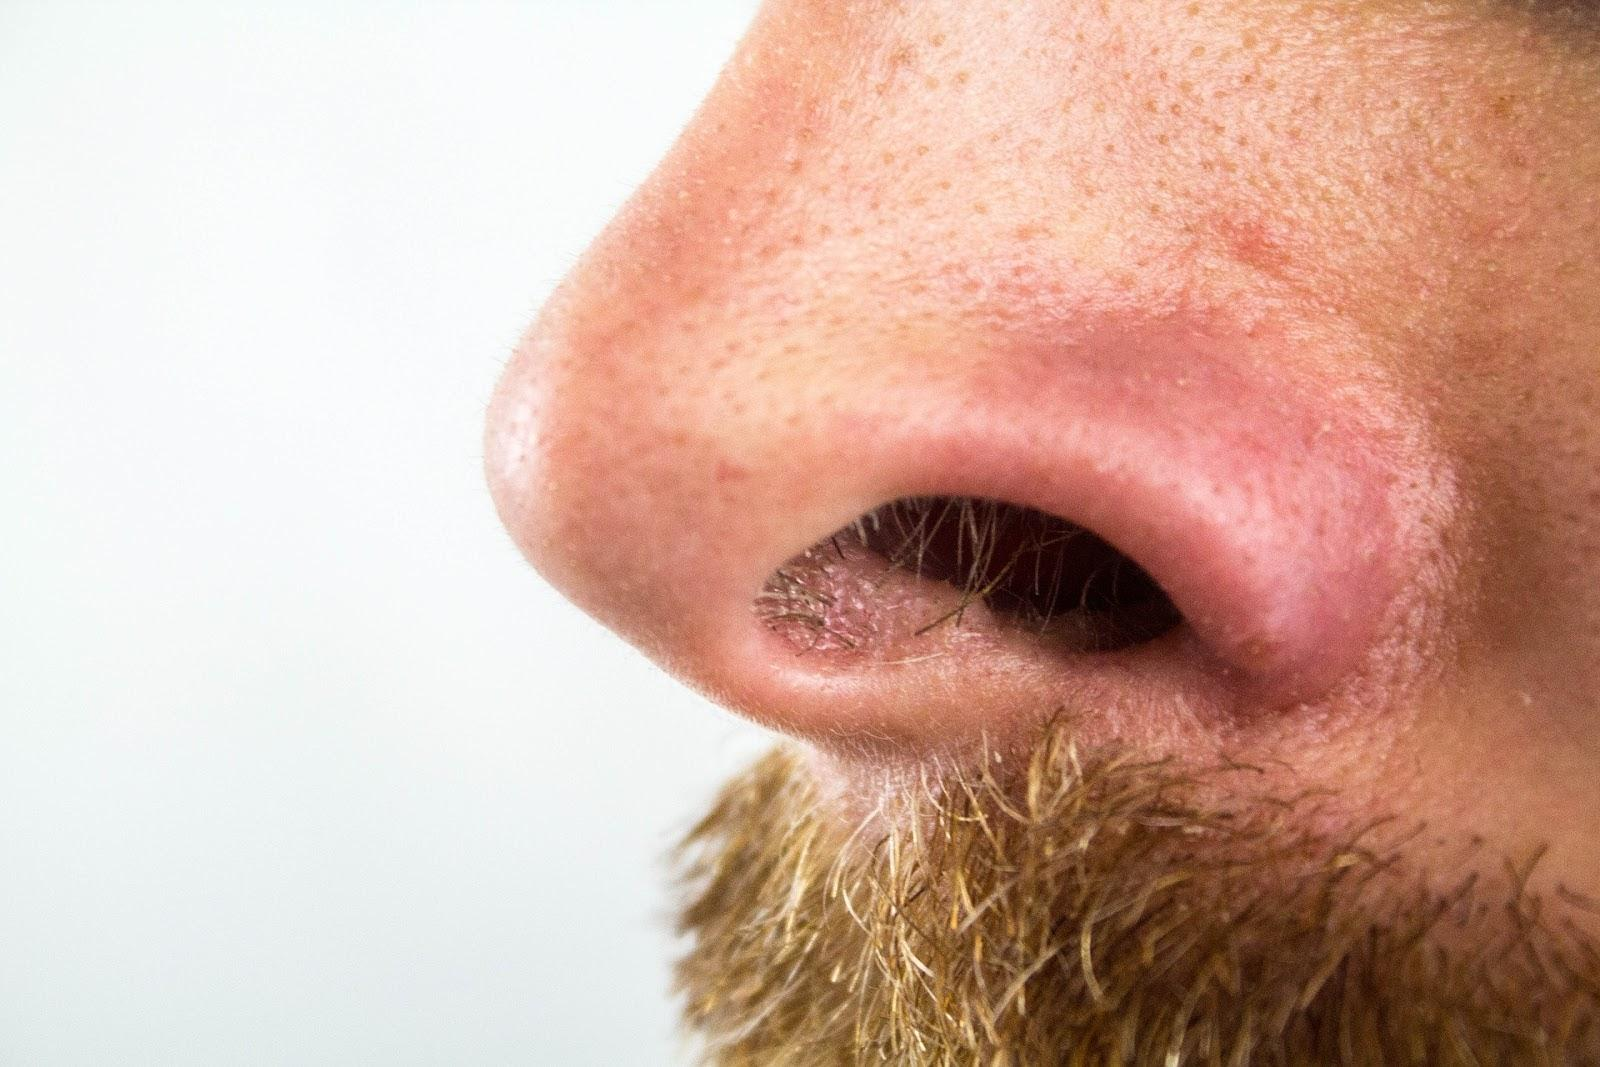Acne: (482, 2, 1600, 722)
